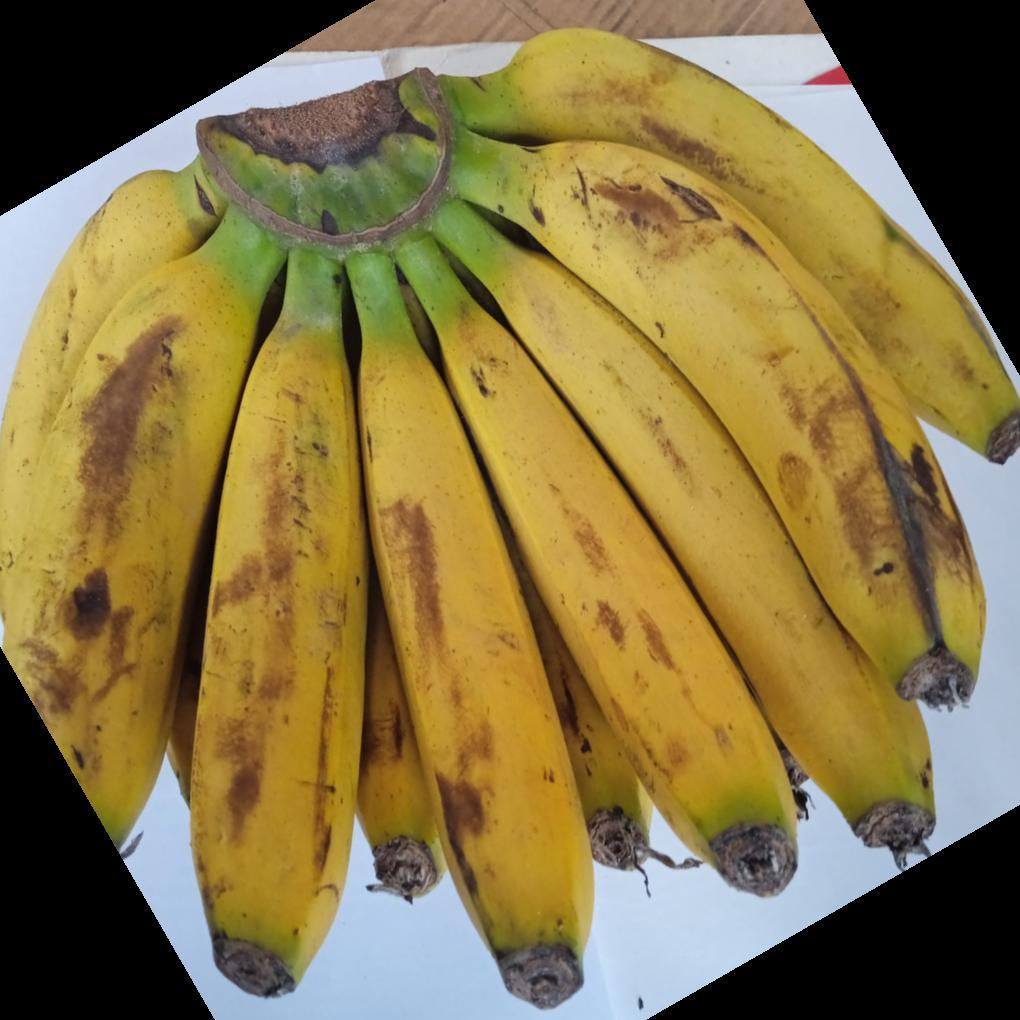Banana Ripe: (6, 19, 1009, 1000), (321, 184, 647, 1006), (31, 117, 260, 894)
